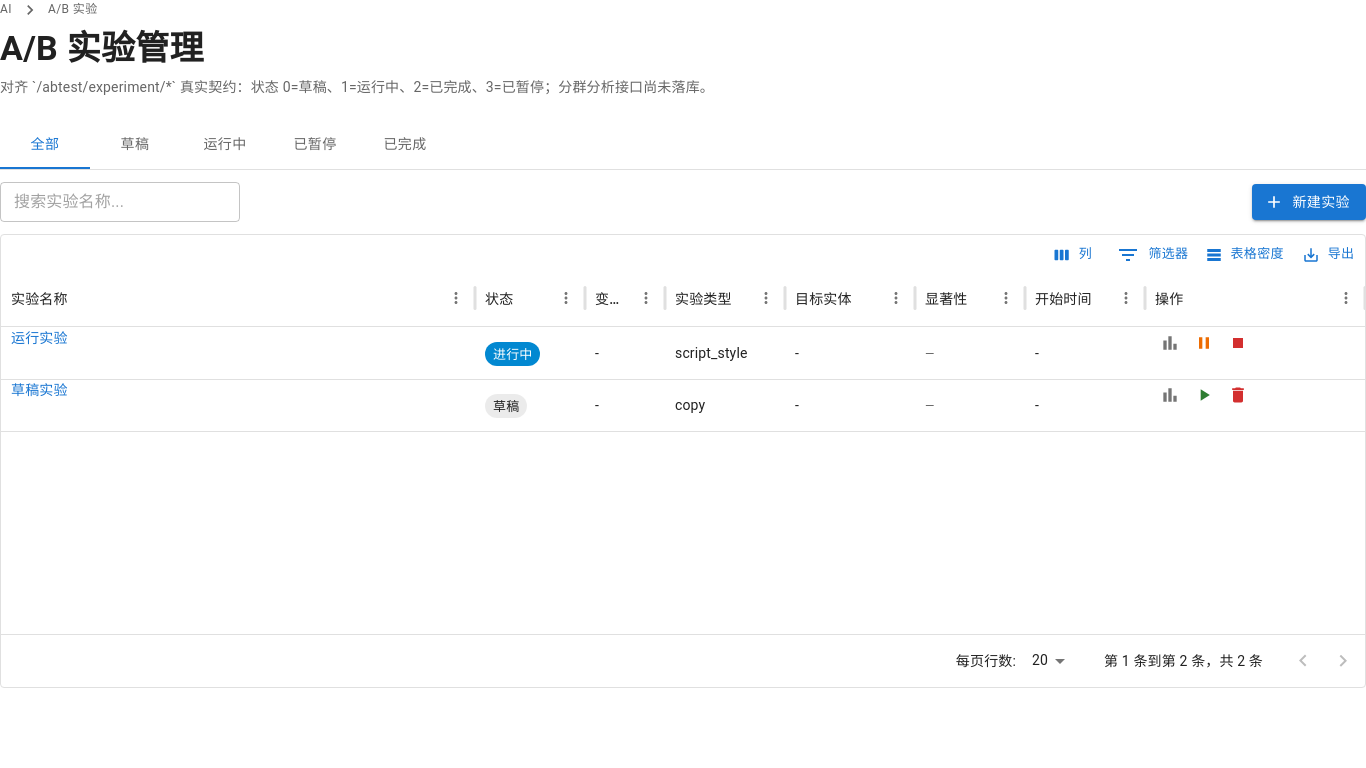
Scenario: ExperimentsPage › shows source endpoint when status update or delete fails
The width and height of the screenshot is (1366, 768).
Expected: the text "运行实验" is shown, [11,330,68,346]
Click the button named "暂停 运行实验": point(1204, 343) [1189,328,1219,358]
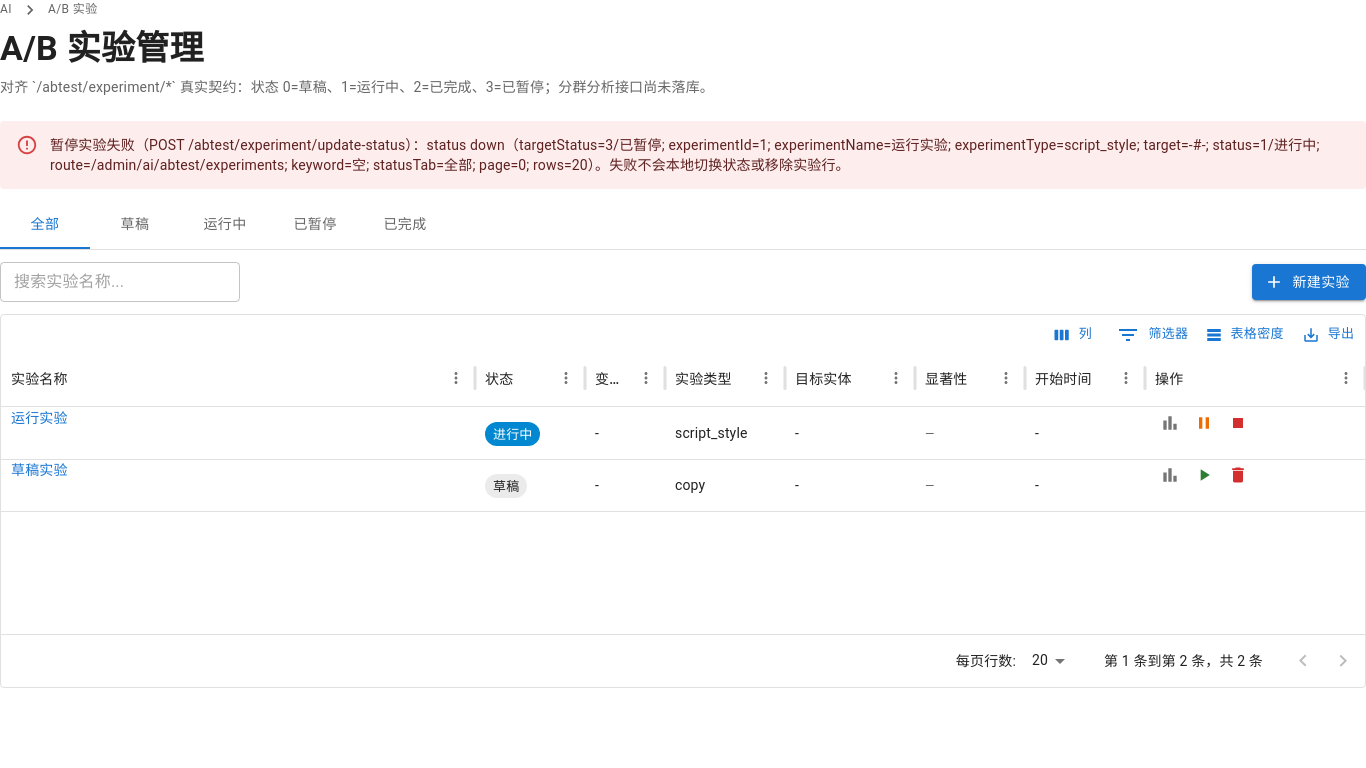
Expected: the text "运行实验" is shown, [11,410,68,426]
Now the text "route=/admin/ai/abtest/experiments; keyword=空; statusTab=全部" is shown, box [50,137,1320,173]
Click the button named "删除 草稿实验": point(1238, 475) [1223,460,1253,490]
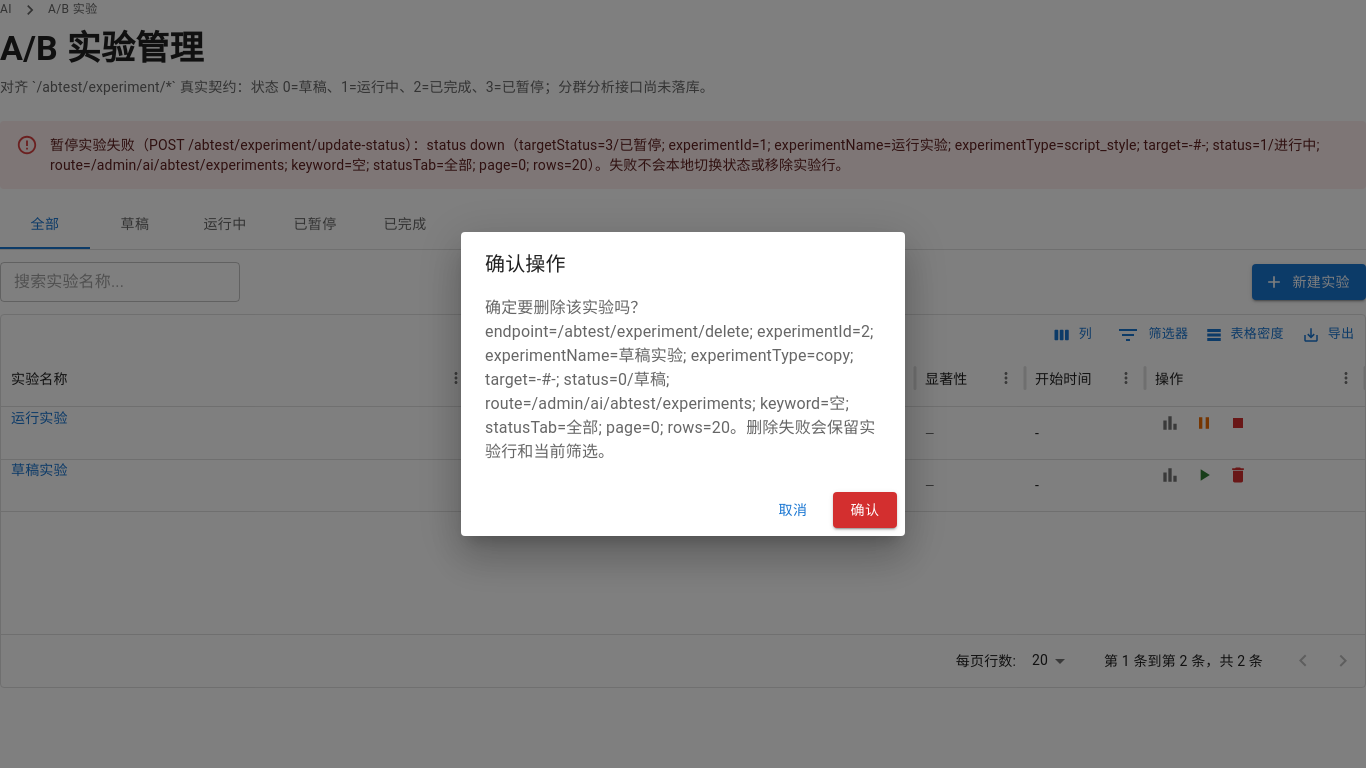
Click the button "确认": point(865, 510) [833,492,897,528]
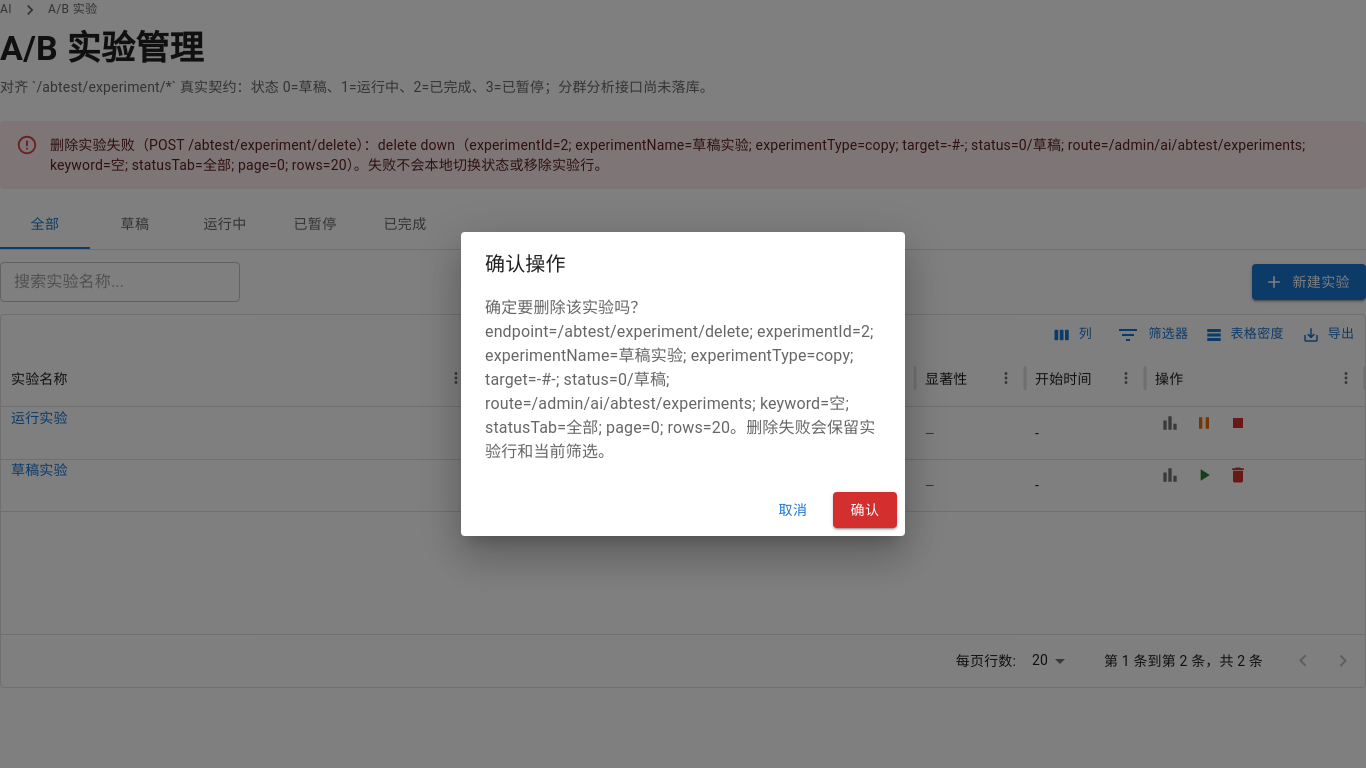
Expected: the text "草稿实验" is shown, [11,462,68,478]
Now the text "experimentId=2; experimentName=草稿实验" is shown, box [50,137,1305,173]
